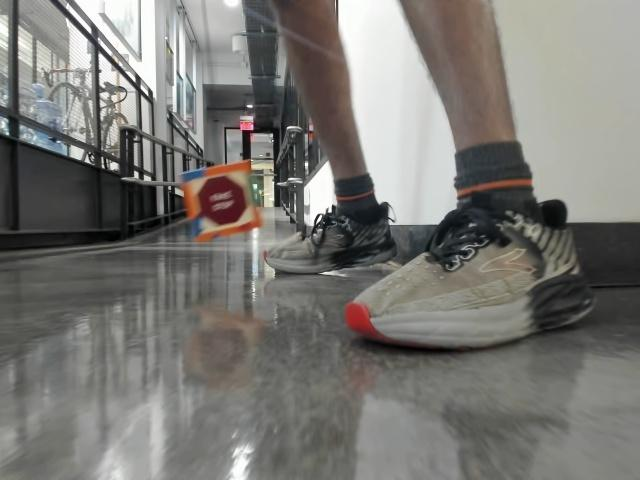Fake Stop: (191, 182, 240, 231)
